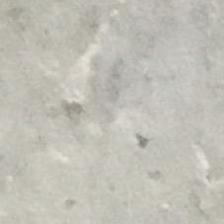Non_Crack: (4, 11, 224, 217)
